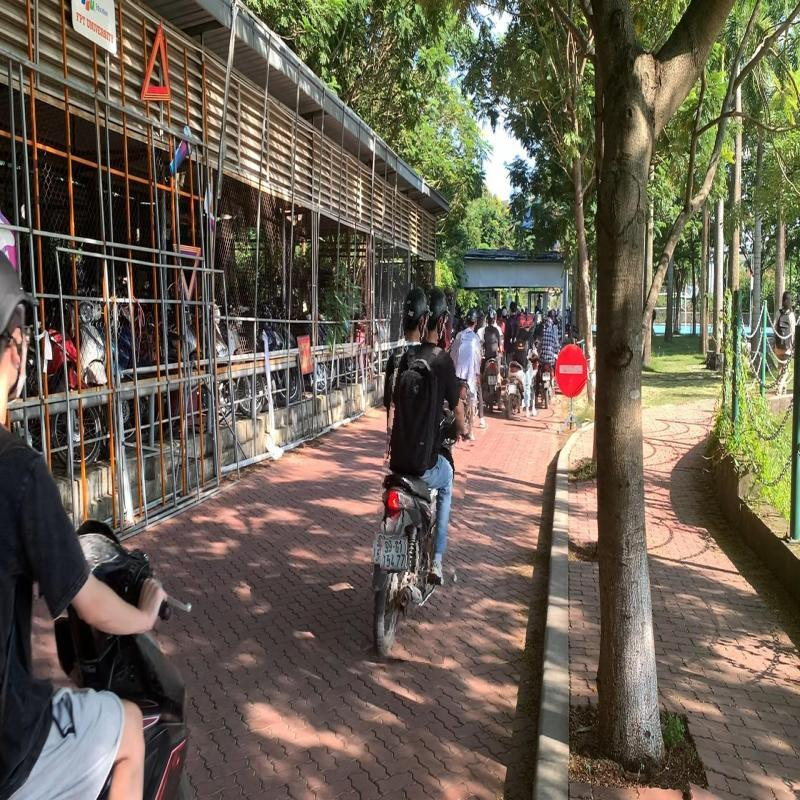helmet: (401, 284, 430, 343), (518, 313, 528, 328)
licenseplate: (380, 536, 411, 574), (508, 384, 518, 396)
motorcyclist: (371, 284, 478, 663), (505, 312, 542, 422)
